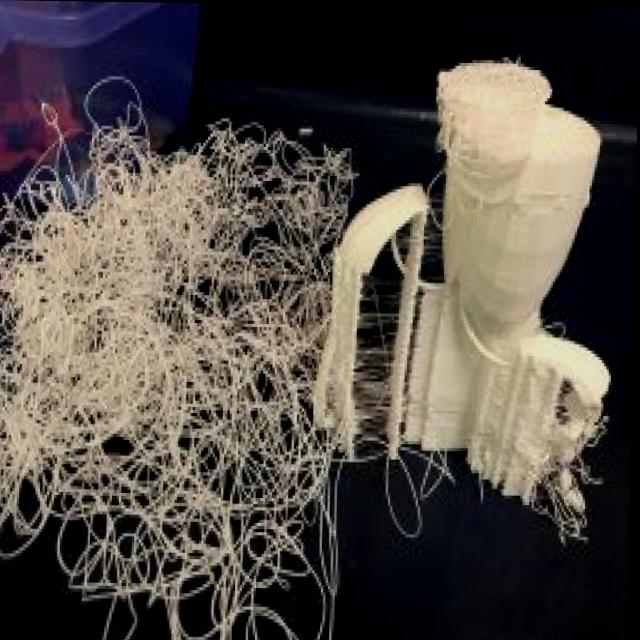spaghetti: (309, 50, 639, 613), (0, 49, 309, 640)
